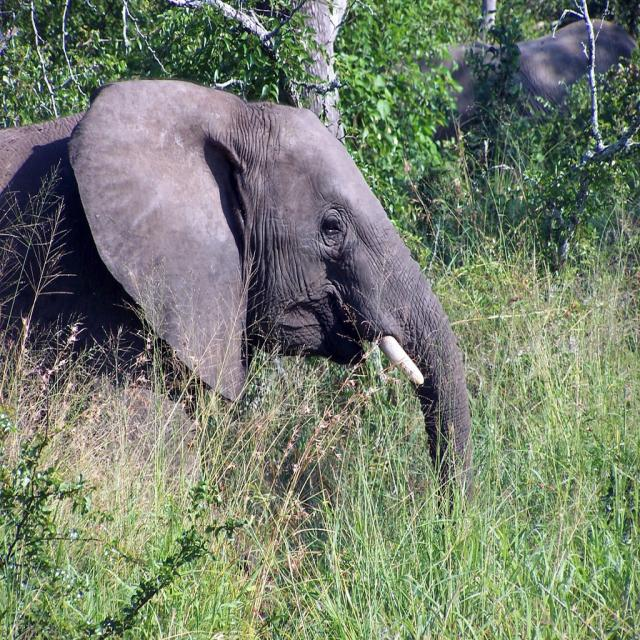elephant: (0, 76, 470, 524), (497, 22, 637, 156), (386, 38, 498, 134)
